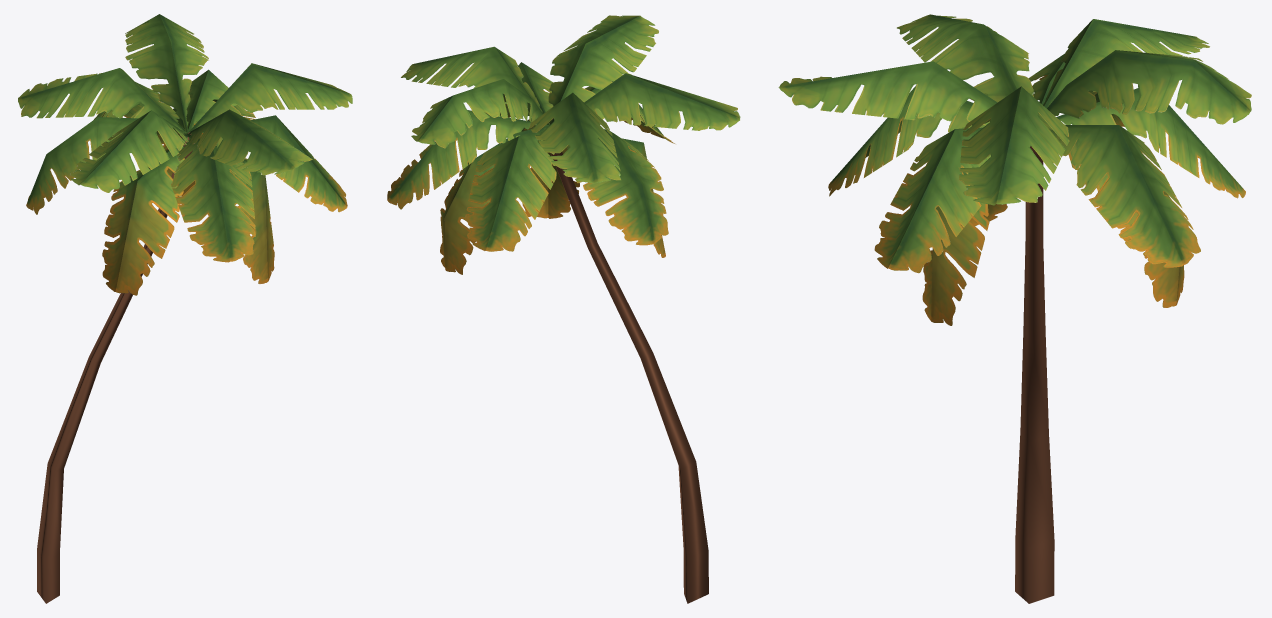
The model's file is palm tree 2.fbx.
3 views of the same model, side by side, from view 1: azimuth 30°, elevation 25°; view 2: azimuth 150°, elevation 25°; view 3: azimuth 270°, elevation 25° (orthographic). The views are drawn at different scales.
Parts seen in each view (by area): view 1: Bark_3; view 2: Bark_3; view 3: Bark_3.
Boxes of the visible parts, x1=… form: Bark_3: x1=18, y1=14, x2=352, y2=603; Bark_3: x1=387, y1=15, x2=740, y2=603; Bark_3: x1=778, y1=14, x2=1251, y2=603.
Size of the model in its own units: 3.02 by 3.2 by 4.71.
